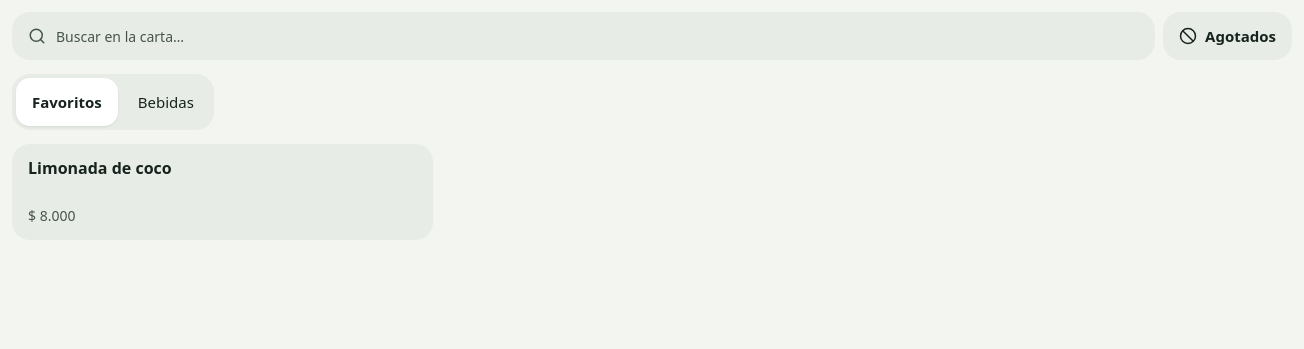
Test: CatalogPanel › «Agotados» encendido: un toque marca el plato agotado (con clave de idempotencia) en vez de sumarlo
Click the button "Agotados".
click(1228, 36)  # box [1163, 12, 1292, 60]
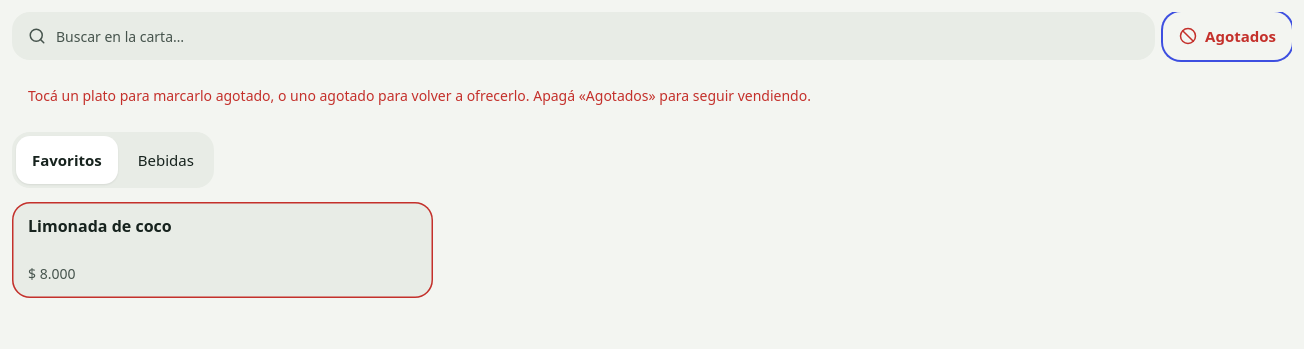
Click the button with aria-label "Marcar agotado: Limonada de coco".
click(100, 226)  # box [12, 202, 433, 298]
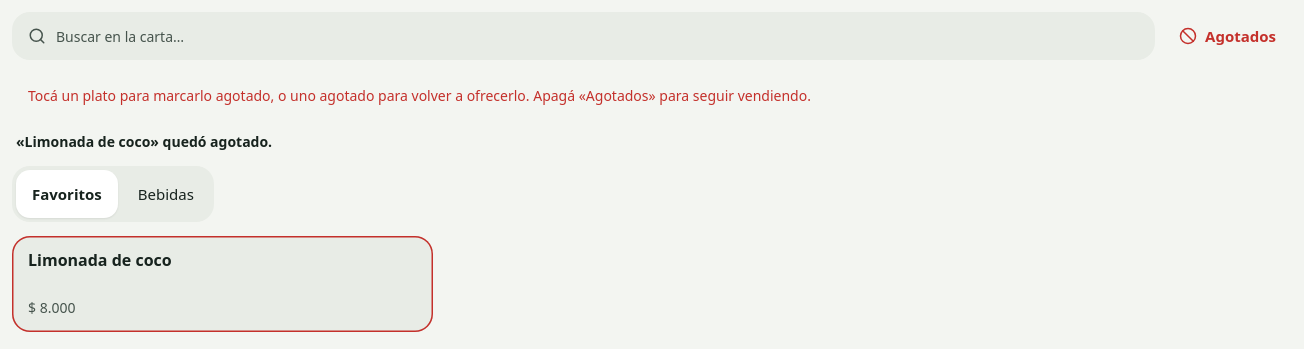
Check: the text "«Limonada de coco» quedó agotado." is shown, box [16, 132, 272, 151]
